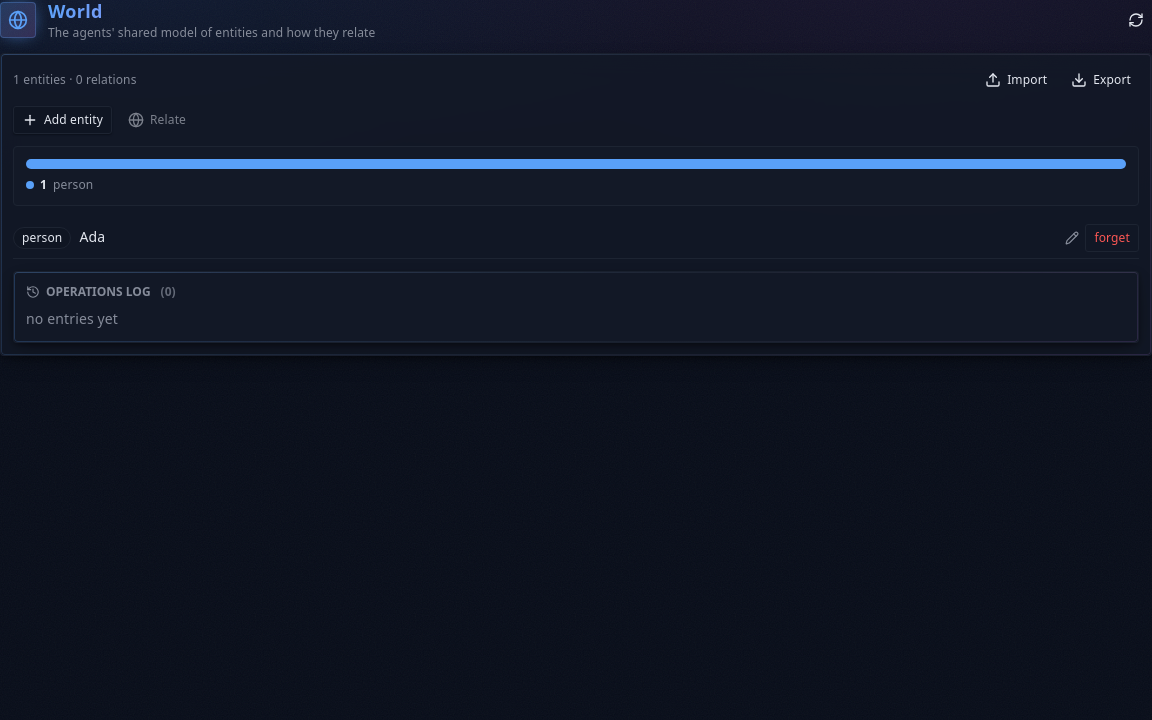
World entity editing surface › opens aliases and attributes in a modal instead of expanding the row inline
Expected: the text "Ada" is shown, [79,226,105,249]
Click the button titled "Edit aliases & attributes": (1072, 238) [1066,230,1080,244]
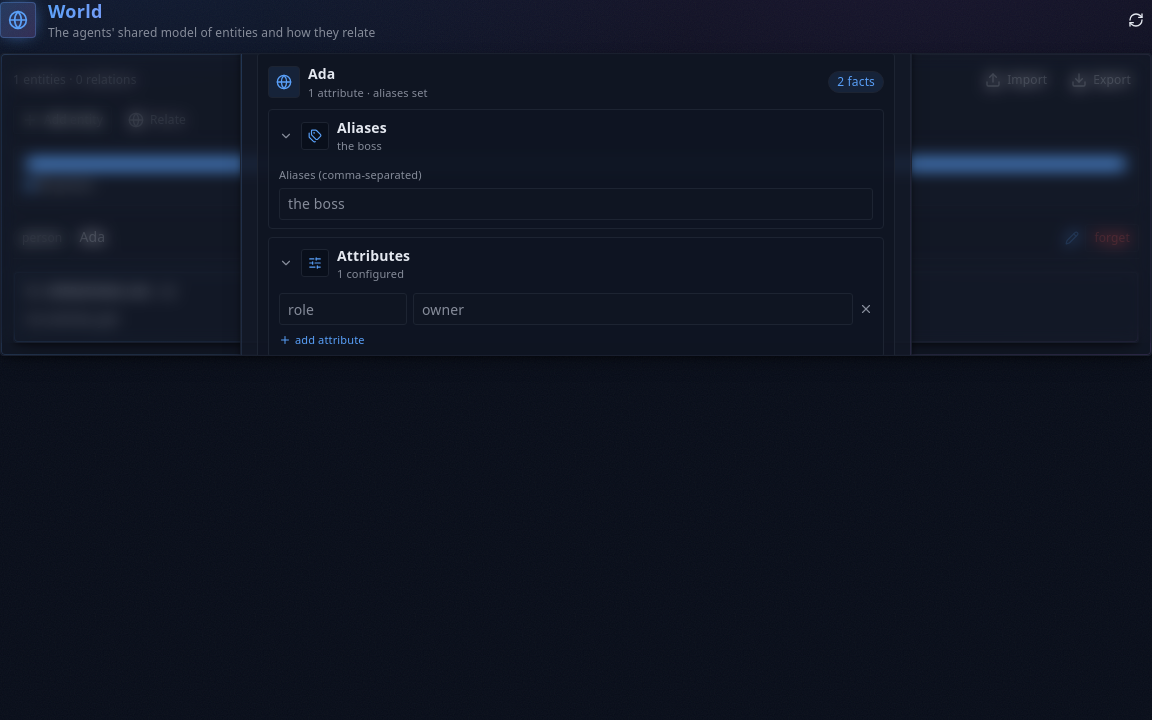
Expected: the field named "Edit entity aliases" holds "the boss", [279,188,873,220]
